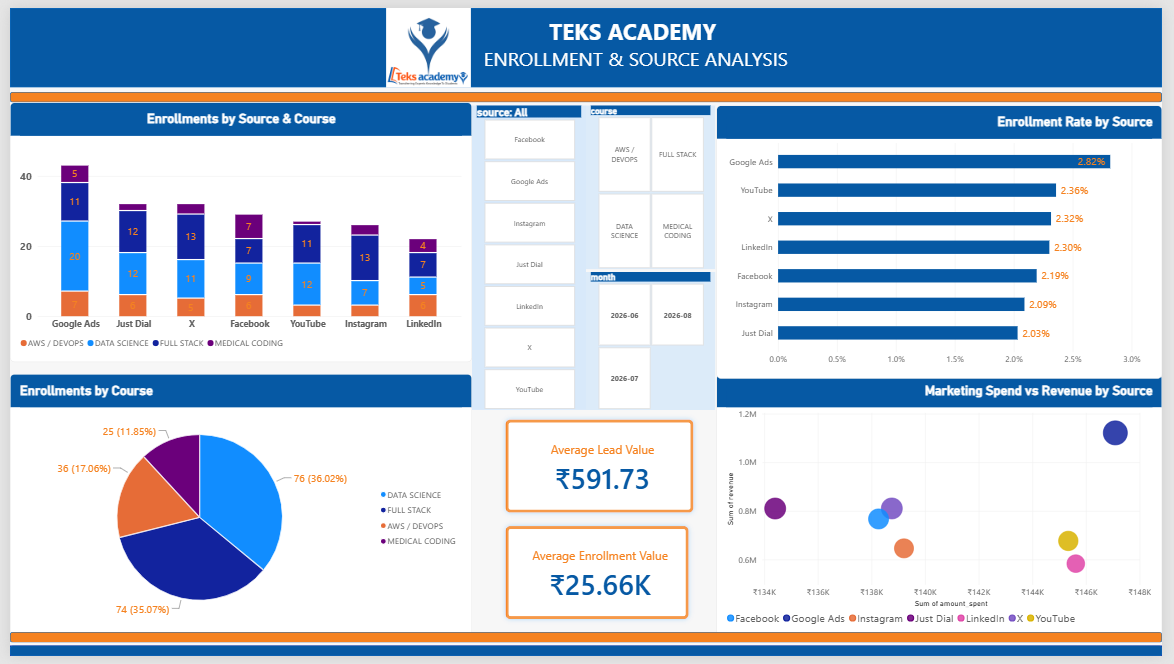

What the dashboard file says about the page in this screenshot:
{"tool":"powerbi","page":{"name":"Page 3","canvas":[1920,1080],"ordinal":2},"visuals":[{"type":"shape","box":[0,0,1920,132.2],"z":0},{"type":"image","box":[557.5,0,279.2,132.2],"z":1000},{"type":"textbox","box":[218,13.6,1651.2,102.2],"z":2000},{"type":"cardVisual","fields":{"Data":["teks_leads_3_months.Average Enrollment Value"]},"box":[802.5,882.3,347.5,177.5],"z":3000},{"type":"scatterChart","title":"Marketing Spend vs Revenue by Source","fields":{"Series":["teks_leads_3_months.source"],"Size":["Sum(teks_leads_3_months.students_joined)"],"X":["teks_leads_3_months.amount_spent"],"Y":["Sum(teks_leads_3_months.revenue)"]},"box":[1177.1,621.2,722.7,456.8],"z":4000},{"type":"pieChart","title":"Enrollments by Course","fields":{"Category":["teks_leads_3_months.course"],"Y":["Sum(teks_leads_3_months.students_joined)"]},"box":[48.3,621.2,722.7,456.8],"z":5000},{"type":"columnChart","title":"Enrollments by Source & Course","fields":{"Category":["teks_leads_3_months.source"],"Series":["teks_leads_3_months.course"],"Y":["Sum(teks_leads_3_months.students_joined)"]},"box":[0,166.8,771.1,432.7],"z":6000},{"type":"shape","box":[0,140.2,1919.9,17.3],"z":7000},{"type":"cardVisual","title":"Overall Leads","fields":{"Data":["teks_leads_3_months.Average Lead Value"]},"box":[802.5,705.8,335,177.5],"z":8000},{"type":"barChart","title":"Enrollment Rate by Source","fields":{"Category":["teks_leads_3_months.source"],"Y":["teks_leads_3_months.Enrollment Rate"]},"box":[1177.1,166.8,722.7,456.8],"z":9000},{"type":"slicer","fields":{"Values":["teks_leads_3_months.source"]},"box":[785.6,166.8,174,507.6],"z":10000},{"type":"slicer","title":"course","fields":{"Values":["teks_leads_3_months.course"]},"box":[959.6,166.8,215.1,273.1],"z":11000},{"type":"slicer","fields":{"Values":["teks_leads_3_months.month"]},"box":[959.6,439.9,215.1,234.5],"z":12000}]}

Visuals, with their boxes in screenshot pixels (x1, y1, x2, y2), scaled from the page's 1920x1080 canvas onto the 1174x664 screenshot:
shape: 0,0,1173,81
image: 341,0,512,81
textbox: 133,8,1143,71
cardVisual - teks_leads_3_months.Average Enrollment Value: 491,542,703,652
"Marketing Spend vs Revenue by Source" scatterChart: 720,382,1162,663
"Enrollments by Course" pieChart: 30,382,471,663
"Enrollments by Source & Course" columnChart: 0,103,471,369
shape: 0,86,1173,97
"Overall Leads" cardVisual: 491,434,696,543
"Enrollment Rate by Source" barChart: 720,103,1162,383
slicer - teks_leads_3_months.source: 480,103,587,415
"course" slicer: 587,103,718,270
slicer - teks_leads_3_months.month: 587,270,718,415
